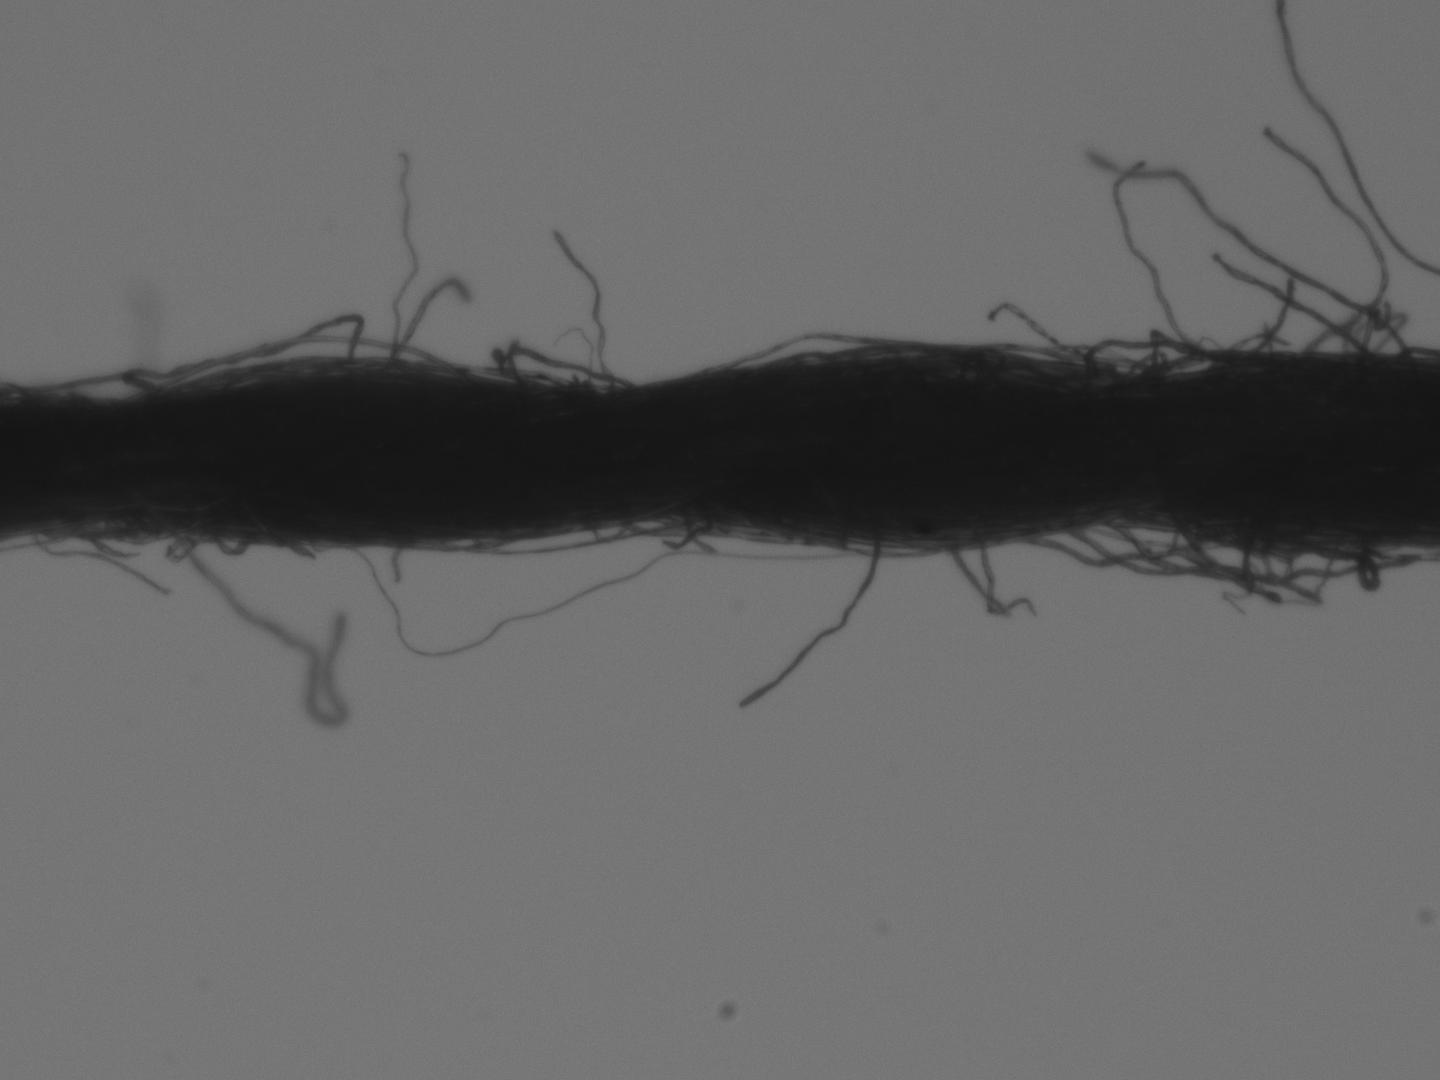loop_fiber: (1018, 524, 1409, 580), (124, 314, 359, 397), (158, 334, 441, 389), (703, 326, 918, 376), (404, 521, 687, 557), (1064, 524, 1203, 574), (494, 343, 633, 390), (1086, 338, 1222, 379), (20, 374, 156, 402), (810, 535, 941, 560), (1103, 524, 1177, 555), (407, 537, 498, 555), (207, 532, 248, 554)
protruding_fiber: (1257, 121, 1395, 355), (744, 535, 884, 709), (1210, 245, 1363, 356), (545, 223, 617, 388), (391, 276, 471, 361)
